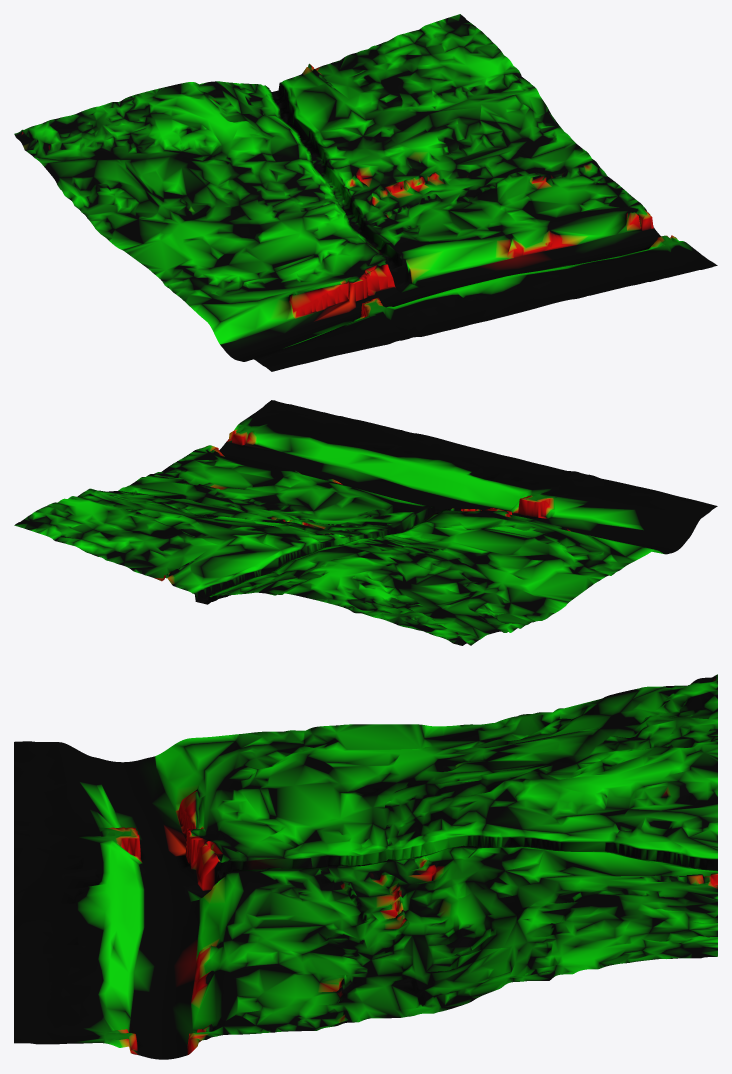
3 views of the same model, one above another, from view 1: azimuth 30°, elevation 25°; view 2: azimuth 150°, elevation 25°; view 3: azimuth 270°, elevation 25° (orthographic). The views are drawn at different scales.
Visible parts, largest first — view 1: N_1_2; view 2: N_1_2; view 3: N_1_2.
Part boxes in pixels (x1=…): N_1_2: x1=14, y1=14, x2=717, y2=371; N_1_2: x1=14, y1=400, x2=717, y2=645; N_1_2: x1=14, y1=674, x2=717, y2=1059.
Size of the model in its own units: 256 by 41.32 by 256.
